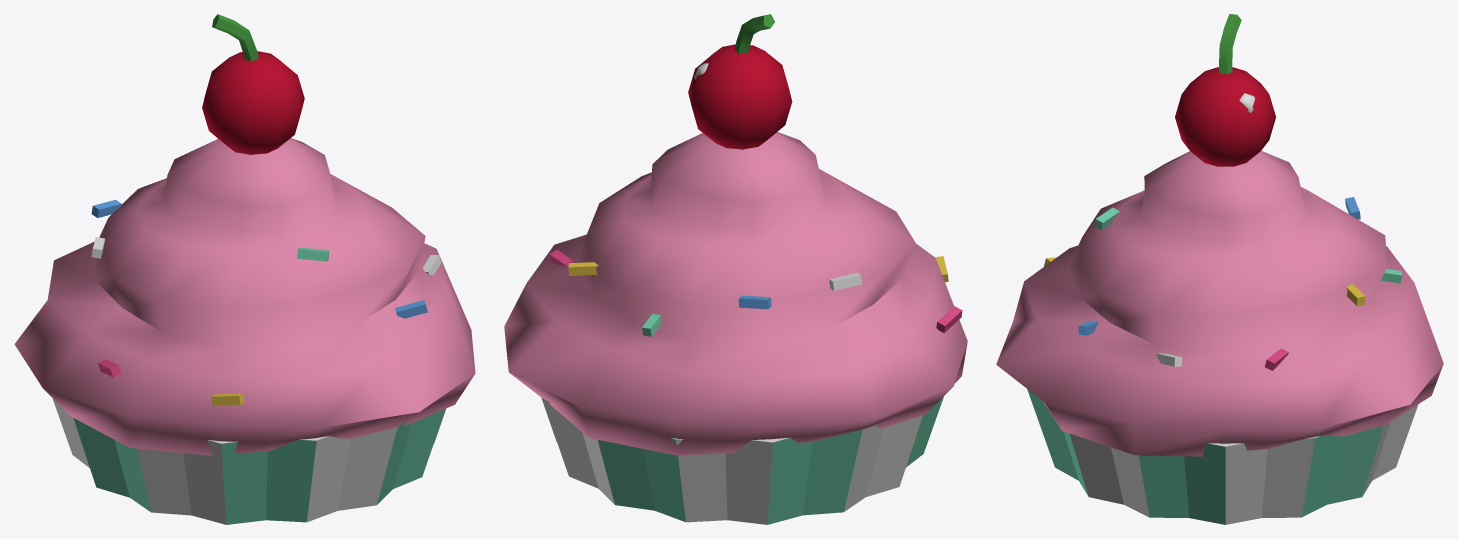
The model's file is cupcake.glb.
The picture shows the model from 3 angles, left to right: view 1: azimuth 30°, elevation 25°; view 2: azimuth 150°, elevation 25°; view 3: azimuth 270°, elevation 25°; orthographic projection. The views are drawn at different scales.
Visible parts, largest first — view 1: cupcake; view 2: cupcake; view 3: cupcake.
Part boxes in pixels (left/top/right/bottom): cupcake: left=14, top=14, right=475, bottom=524; cupcake: left=504, top=14, right=967, bottom=524; cupcake: left=996, top=14, right=1443, bottom=524.
Bounding box in the file's own units: 0.48 × 0.5061 × 0.486.
